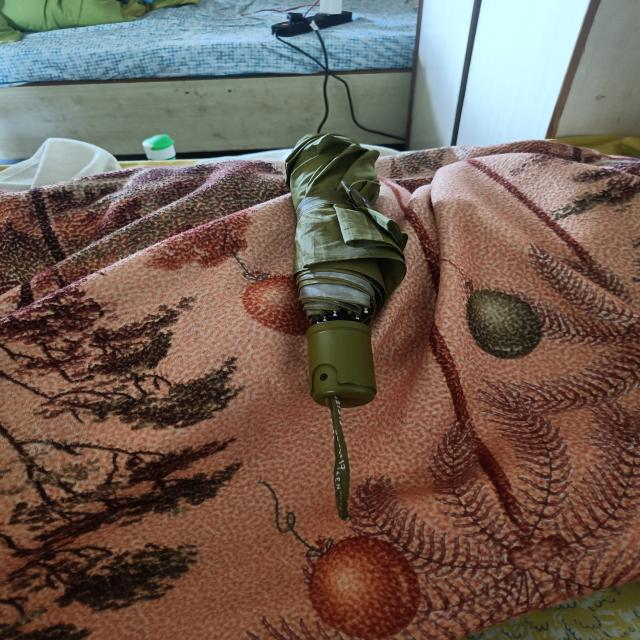umbrella: (283, 133, 407, 406)
